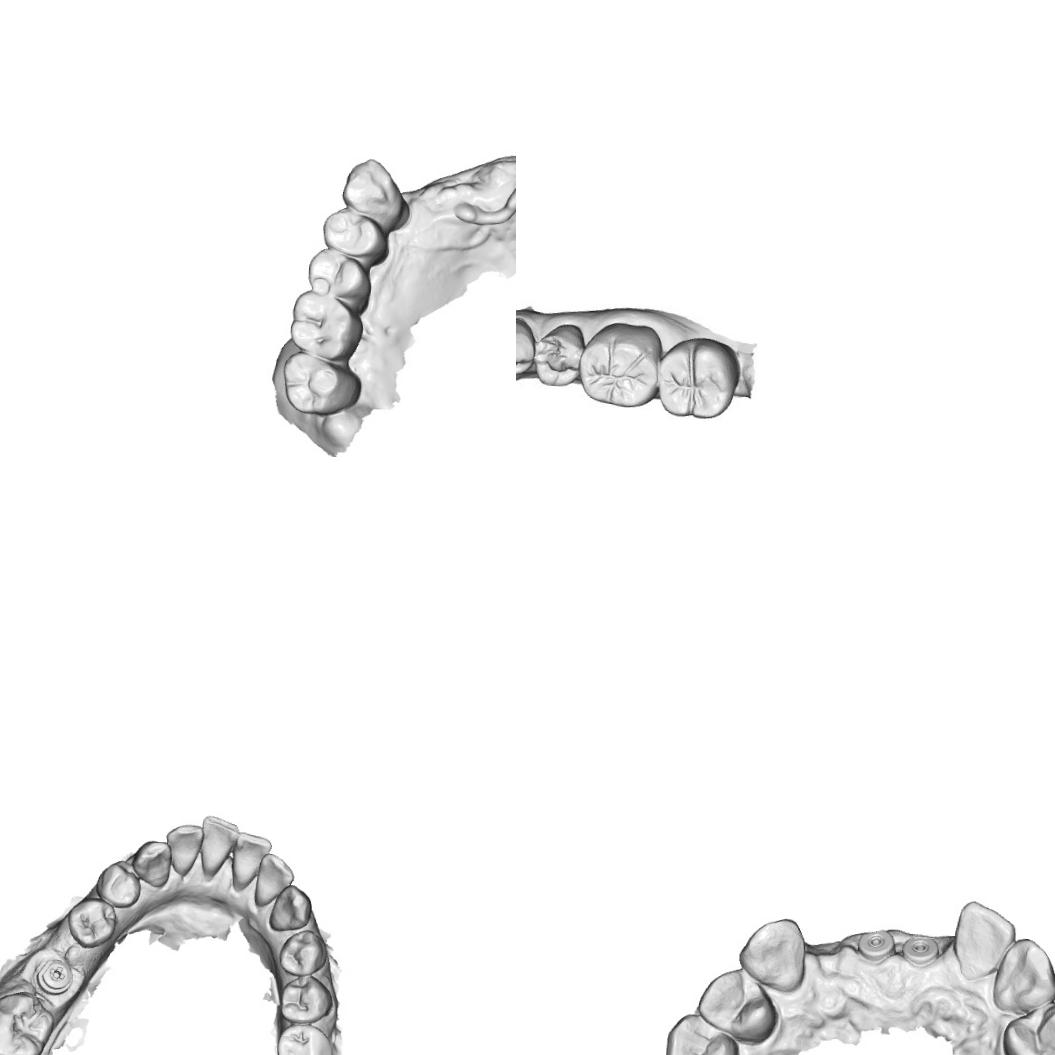canine: (338, 154, 411, 234), (736, 914, 809, 990), (990, 935, 1055, 1012), (266, 880, 314, 933), (128, 836, 173, 890)
implant: (903, 932, 941, 968), (859, 927, 893, 965)
implant_plus: (32, 954, 75, 996)
incisor: (949, 898, 1019, 978), (228, 829, 274, 888), (198, 813, 240, 876), (252, 848, 296, 908), (162, 822, 203, 878)
molar: (582, 324, 662, 407), (278, 348, 364, 418), (287, 287, 367, 362), (658, 340, 734, 418), (0, 986, 56, 1055), (270, 1020, 336, 1055)
premolar: (694, 966, 779, 1046), (318, 206, 391, 266), (306, 244, 374, 308), (662, 1009, 742, 1055), (532, 320, 584, 389), (275, 970, 334, 1024), (1000, 998, 1055, 1055), (276, 926, 331, 978), (65, 896, 120, 948), (93, 858, 143, 910), (516, 318, 535, 377)
